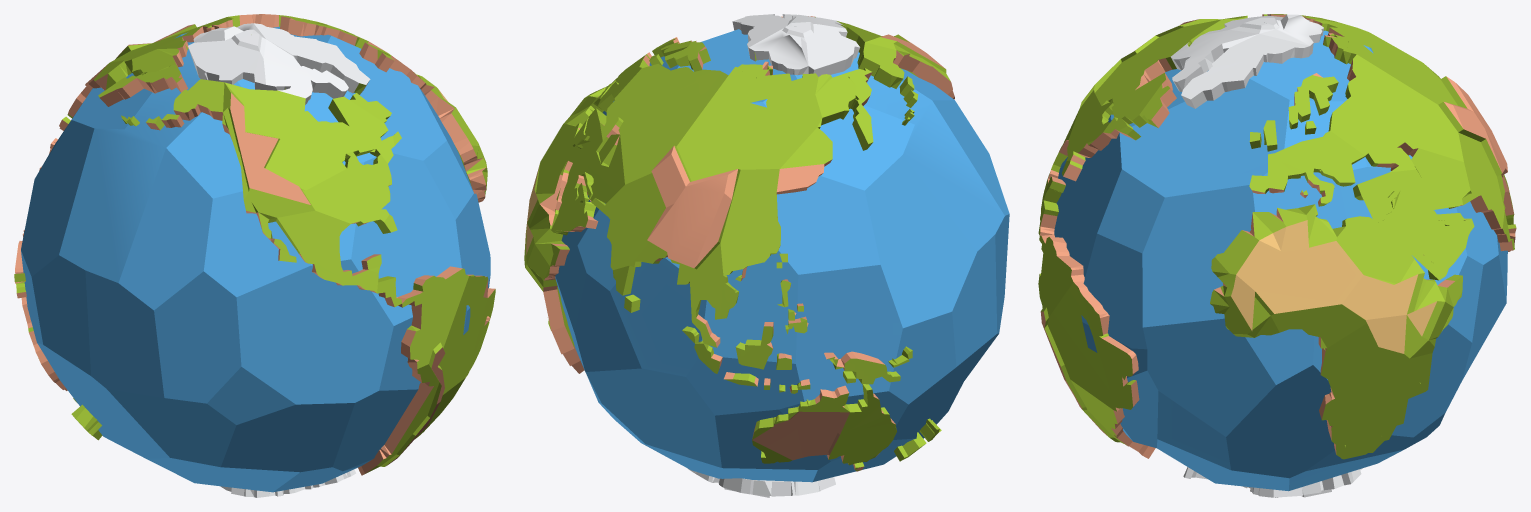
File: earth.fbx
3 views of the same model, side by side, from view 1: azimuth 30°, elevation 25°; view 2: azimuth 150°, elevation 25°; view 3: azimuth 270°, elevation 25° (orthographic).
Visible parts, largest first — view 1: Object; view 2: Object; view 3: Object.
Boxes of the visible parts, left/top/right/bottom form: Object: left=14, top=14, right=495, bottom=497; Object: left=524, top=14, right=1009, bottom=497; Object: left=1038, top=14, right=1516, bottom=497.
Size of the model in its own units: 210 by 223 by 209.
